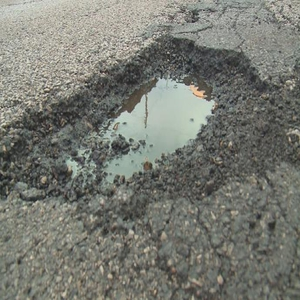pothole: (18, 36, 292, 216)
